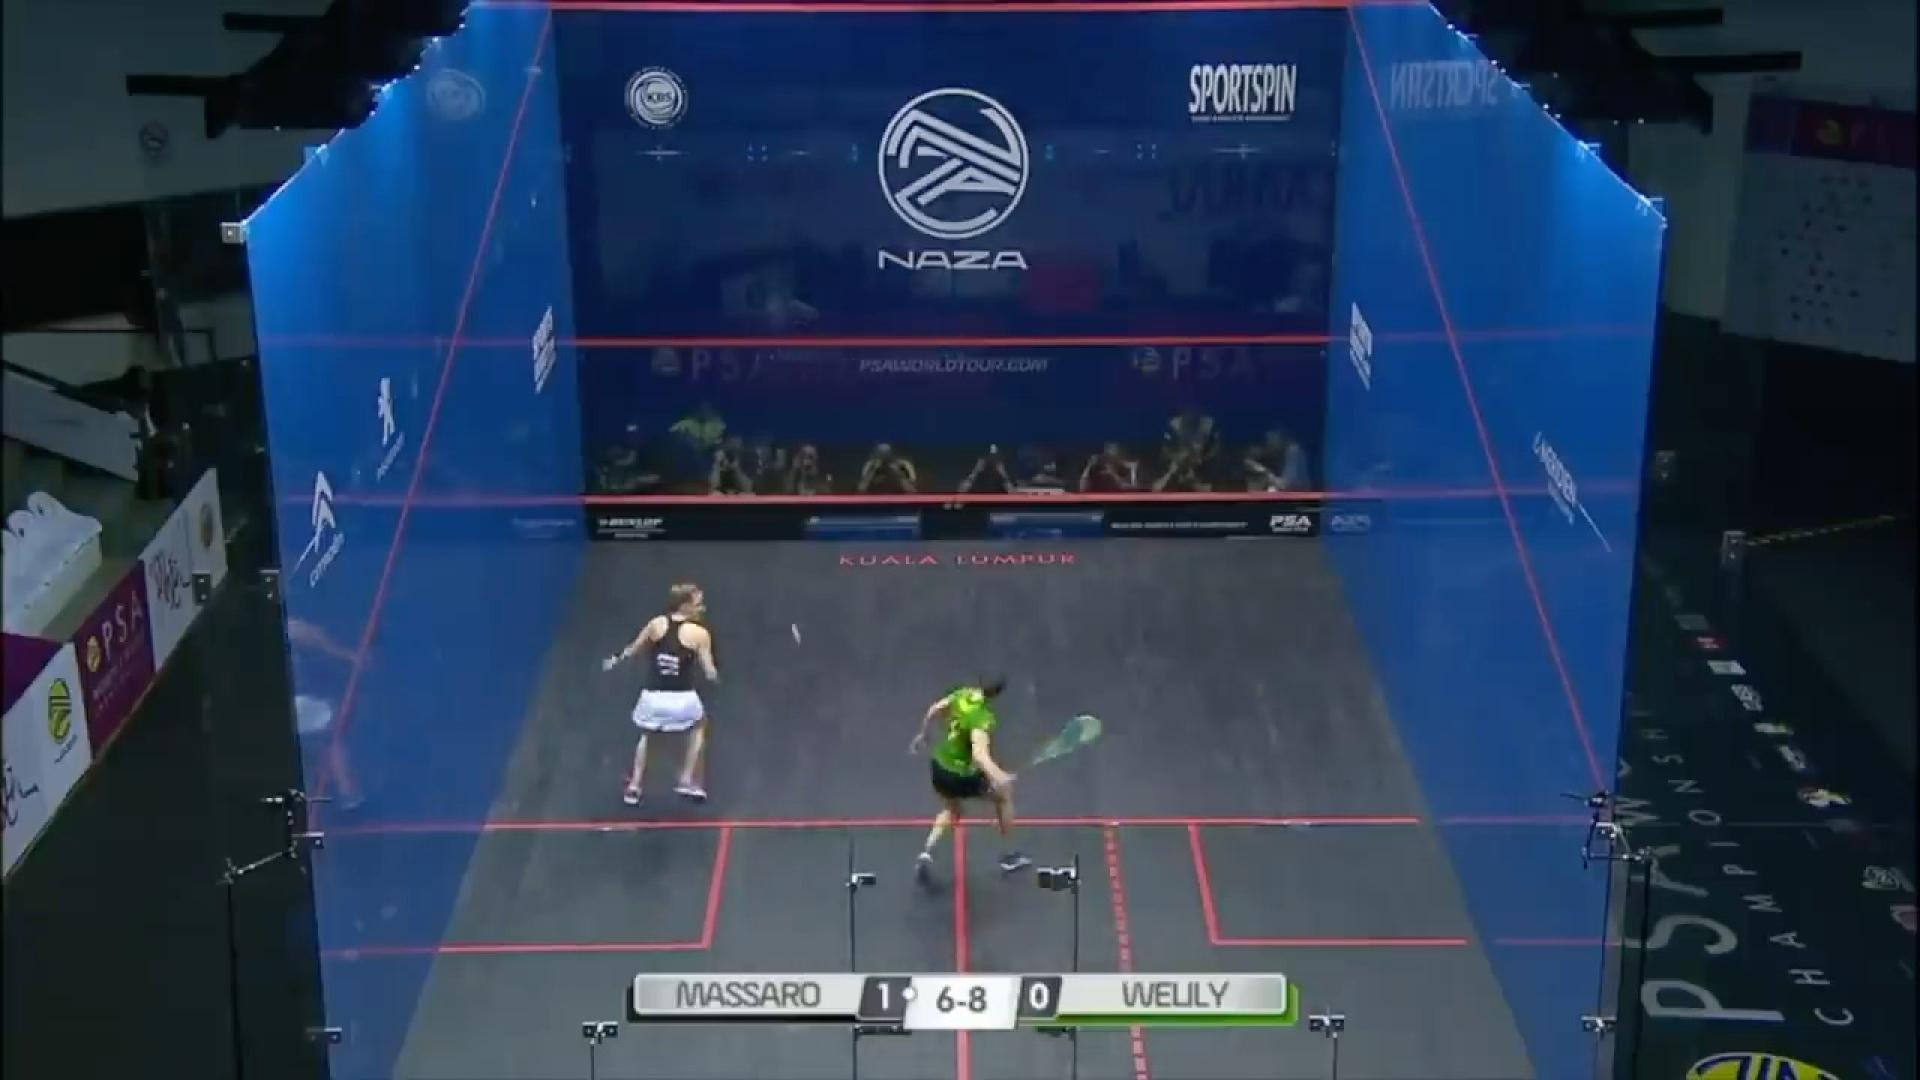Squash-Ball: (775, 607, 820, 655)
